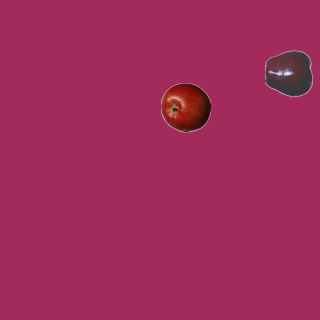Apple Braeburn: (160, 82, 210, 132)
Apple Red Delicious: (264, 48, 314, 98)
